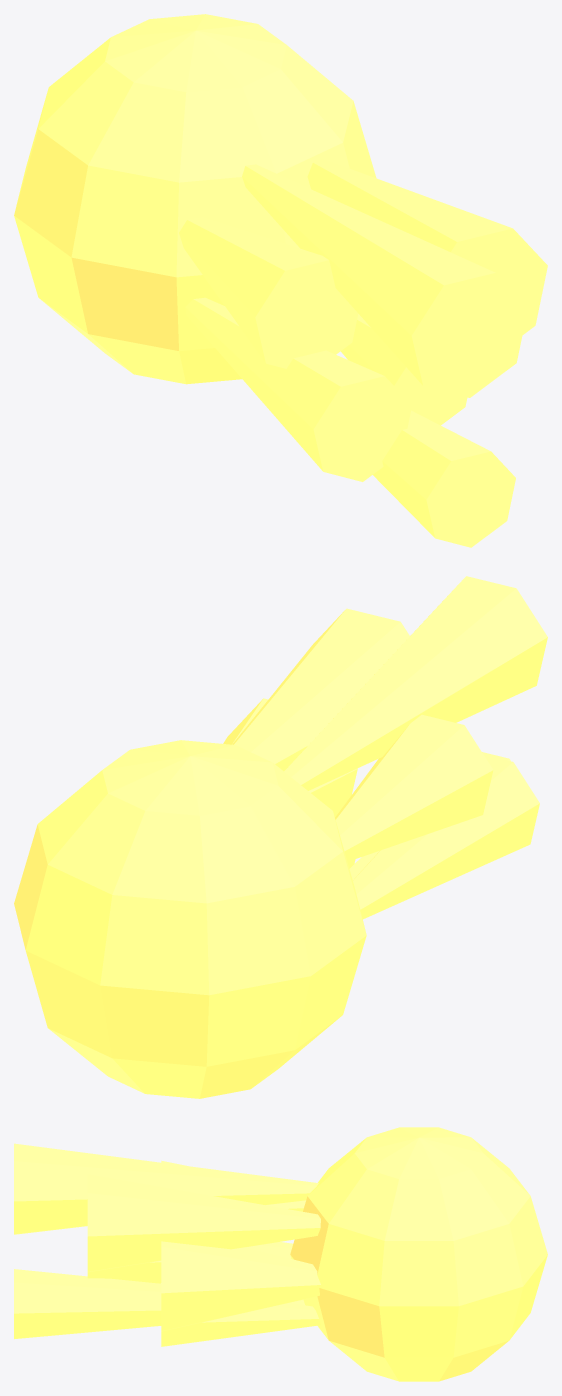
File: fireball.glb
The picture shows the model from 3 angles, top to bottom: view 1: azimuth 30°, elevation 25°; view 2: azimuth 150°, elevation 25°; view 3: azimuth 270°, elevation 25°; orthographic projection. The views are drawn at different scales.
Parts seen in each view (by area): view 1: fireball; view 2: fireball; view 3: fireball.
Part boxes in pixels (bbox=[...]): fireball: bbox=[14, 14, 547, 547]; fireball: bbox=[14, 576, 547, 1098]; fireball: bbox=[14, 1127, 547, 1381].
Size of the model in its own units: 1.33 by 1.4 by 2.9.
